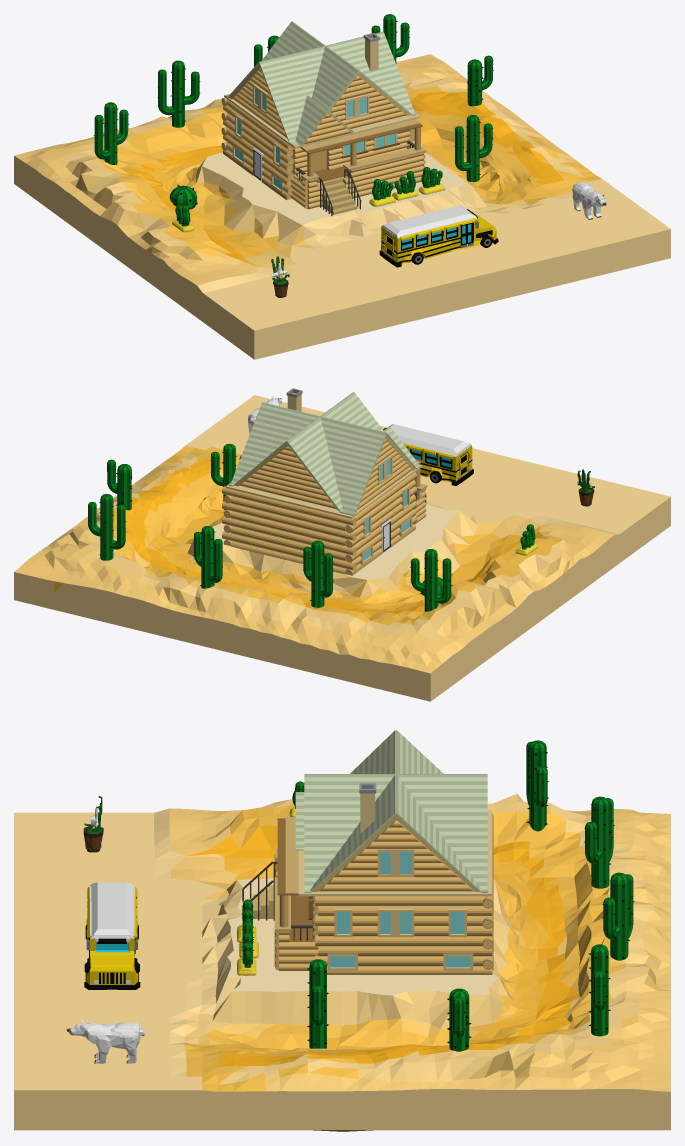
3 views of the same model, one above another, from view 1: azimuth 30°, elevation 25°; view 2: azimuth 150°, elevation 25°; view 3: azimuth 270°, elevation 25° (orthographic). The views are drawn at different scales.
Visible parts, largest first — view 1: Cube.001, Cube.1516, VEHICLES_SCHOOL_BUS, Cylinder.037, Cylinder.044, Cylinder.045, Cylinder.038, Cylinder.042, ANIMAL_OSO_POLAR, Cylinder.039, Cylinder.041, OBJRANDOM_MONJA BLANCA (+2 smaller); view 2: Cube.001, Cube.1516, VEHICLES_SCHOOL_BUS, Cylinder.042, Cylinder.045, Cylinder.044, Cylinder.043, Cylinder.038, Cylinder.037; view 3: Cube.001, Cube.1516, VEHICLES_SCHOOL_BUS, Cylinder.043, Cylinder.044, ANIMAL_OSO_POLAR, Cylinder.045, Cylinder.042, Cylinder.037, Cylinder.038, OBJRANDOM_MONJA BLANCA, Cylinder.041.
Boxes of the visible parts, box(x1,y1,x2,y2) form: Cube.001: box(14, 54, 670, 359); Cube.1516: box(221, 21, 426, 215); VEHICLES_SCHOOL_BUS: box(379, 205, 498, 267); Cylinder.037: box(454, 115, 493, 182); Cylinder.044: box(157, 60, 200, 127); Cylinder.045: box(93, 102, 129, 164); Cylinder.038: box(467, 55, 493, 106); Cylinder.042: box(371, 14, 409, 63); ANIMAL_OSO_POLAR: box(572, 181, 606, 219); Cylinder.039: box(369, 179, 395, 206); Cylinder.041: box(418, 167, 445, 194); OBJRANDOM_MONJA BLANCA: box(271, 256, 289, 297); Cube.001: box(14, 395, 670, 701); Cube.1516: box(222, 388, 427, 575); VEHICLES_SCHOOL_BUS: box(383, 424, 473, 485); Cylinder.042: box(88, 494, 126, 560); Cylinder.045: box(410, 549, 452, 611); Cylinder.044: box(303, 540, 333, 607); Cylinder.043: box(193, 526, 222, 588); Cylinder.038: box(107, 459, 131, 510); Cylinder.037: box(210, 443, 241, 510); Cube.001: box(14, 793, 670, 1130); Cube.1516: box(242, 730, 493, 974); VEHICLES_SCHOOL_BUS: box(84, 882, 140, 989); Cylinder.043: box(602, 872, 634, 960); Cylinder.044: box(584, 796, 614, 888); ANIMAL_OSO_POLAR: box(66, 1020, 144, 1063); Cylinder.045: box(526, 740, 548, 831); Cylinder.042: box(588, 944, 610, 1036); Cylinder.037: box(307, 959, 329, 1048); Cylinder.038: box(447, 988, 471, 1051); OBJRANDOM_MONJA BLANCA: box(83, 796, 103, 852); Cylinder.041: box(237, 932, 256, 975).
Size of the model in its own units: 4002 by 1693 by 4001.
Materials: 41 (3 with a texture image).
